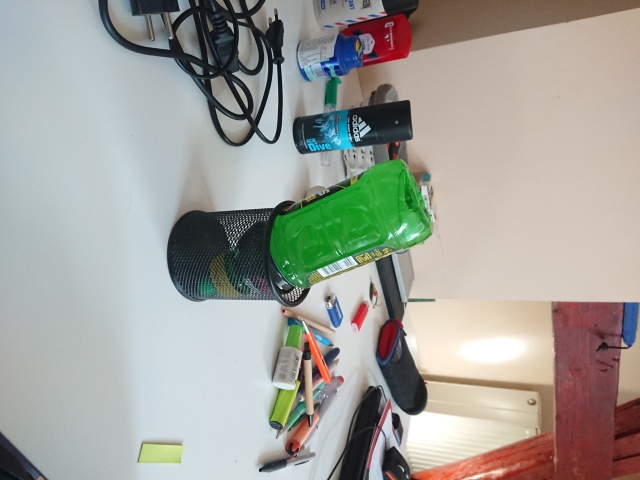Vindi Iso Sport Lemon-Grapefruit 500mL: (194, 156, 437, 300)
